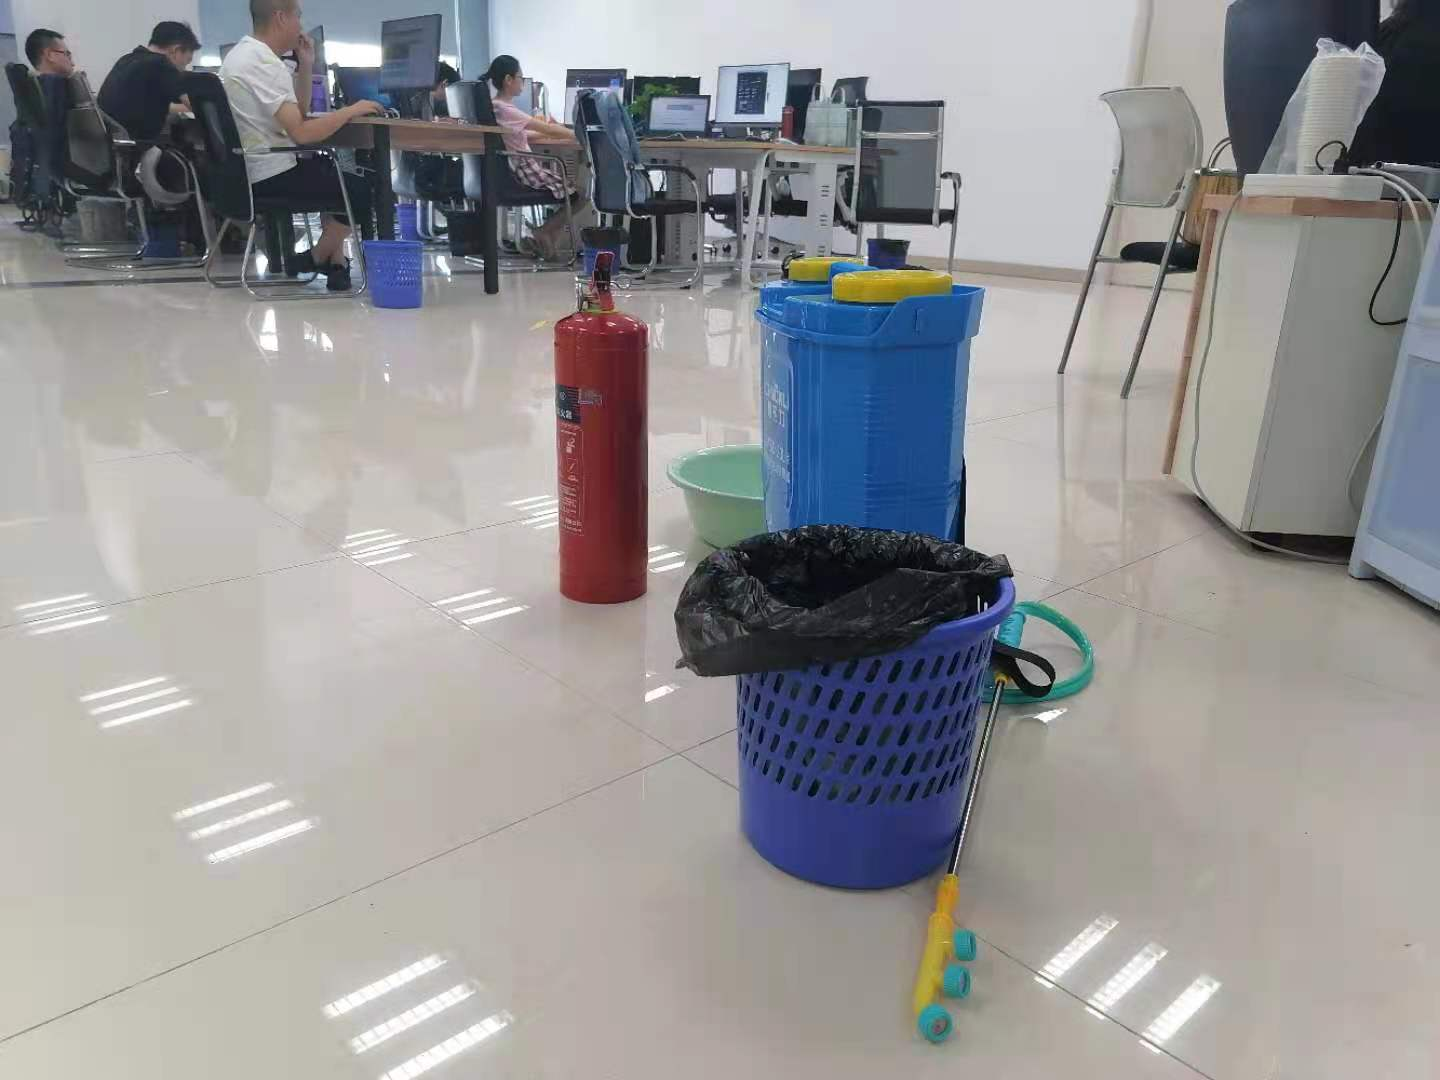berrl: (751, 251, 996, 571)
